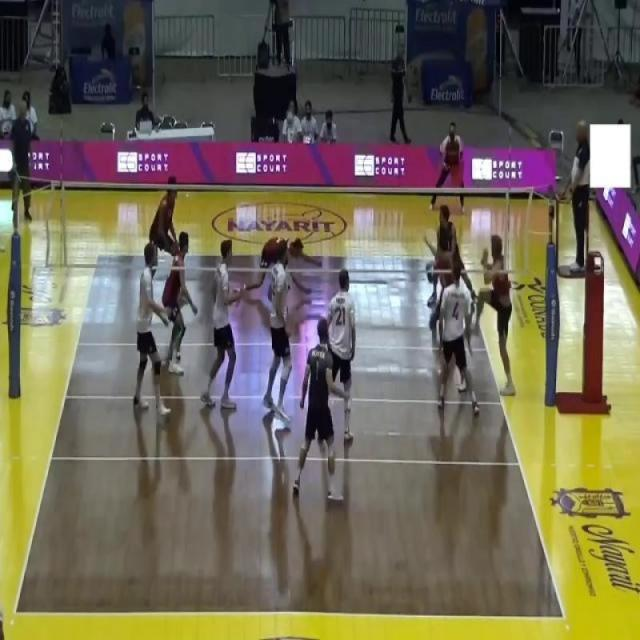volleyball: (286, 110, 295, 129)
